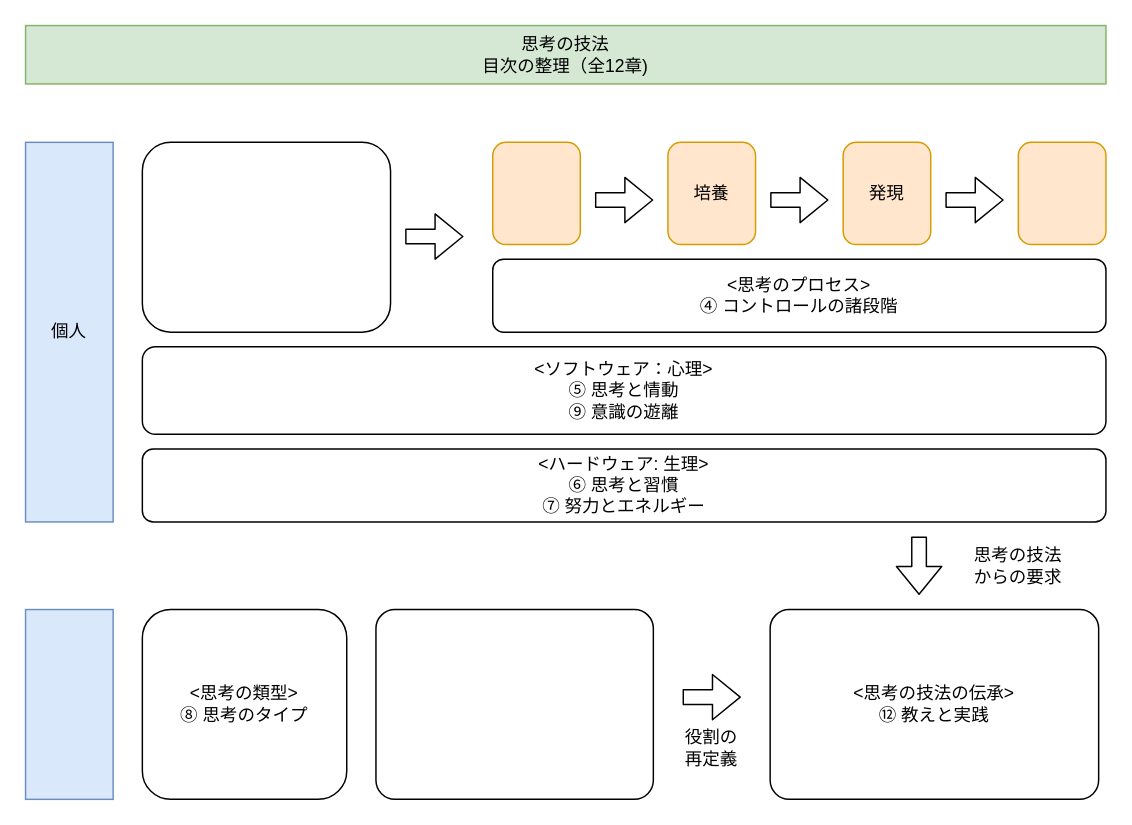
Some shapes in this 1132 by 825 pixel diagram are drawn without their labels. Here are the shapes that lost their labels. From the top down, the centre of each, then its label:
At [535,193]: "準備".
At [1061,193]: "検証".
At [266,236]: "<前思考> ① 心理学と思考 ➁ 意識と意志 ③ 技法に先立つ思考".
At [68,703]: "社会 (民族, 国家)".
At [513,703]: "<環境としての教育> ⑩ 教育の技法 ⑪ 公的教育".
